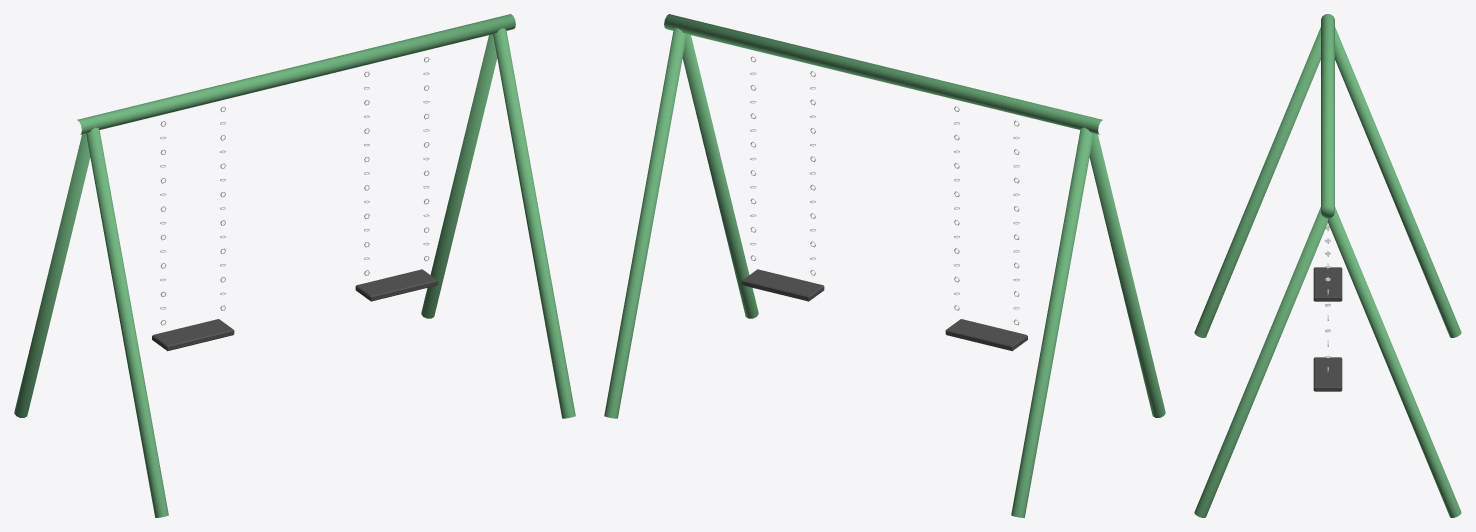
File: swing_set.glb
3 renders of one model, left to right at view 1: azimuth 30°, elevation 25°; view 2: azimuth 150°, elevation 25°; view 3: azimuth 270°, elevation 25°, orthographic. The views are drawn at different scales.
Parts seen in each view (by area): view 1: swing_set; view 2: swing_set; view 3: swing_set.
Part boxes in pixels (x1,y1,x2,y2): swing_set: (14,14,575,517); swing_set: (604,14,1165,517); swing_set: (1194,14,1461,517).
Size of the model in its own units: 3.2 by 2.46 by 1.88.
